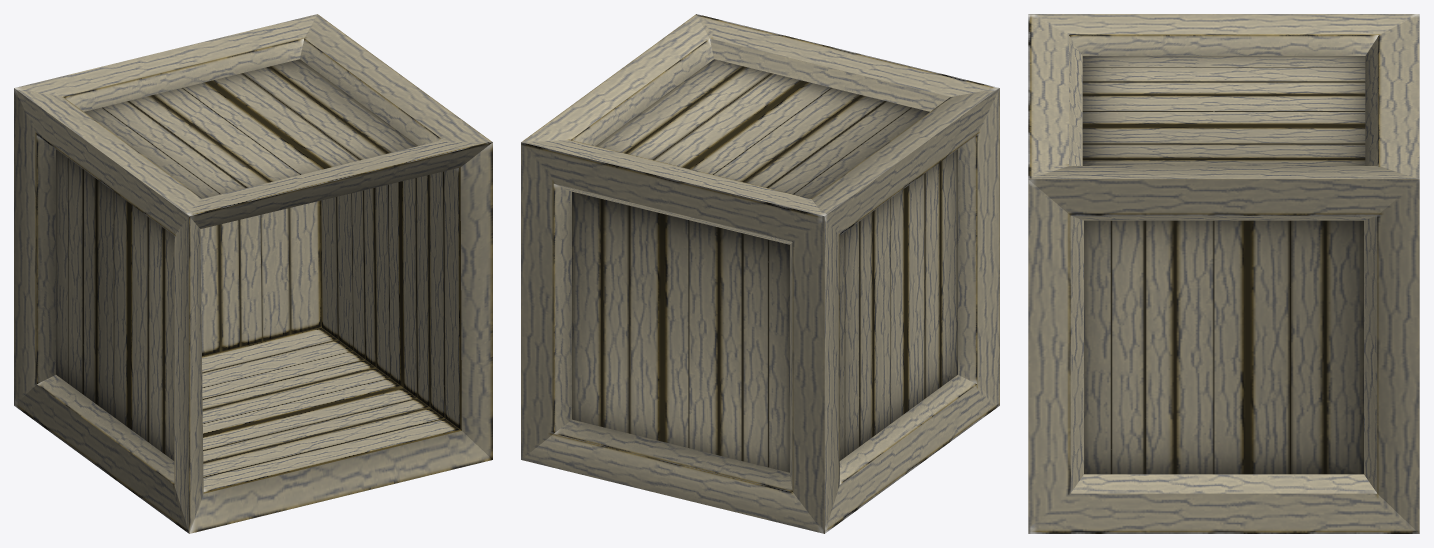
File: Crate_Open.fbx
3 views of the same model, side by side, from view 1: azimuth 30°, elevation 25°; view 2: azimuth 150°, elevation 25°; view 3: azimuth 270°, elevation 25° (orthographic). The views are drawn at different scales.
Parts seen in each view (by area): view 1: polySurface2; view 2: polySurface2; view 3: polySurface2.
Boxes of the visible parts, x1=… form: polySurface2: x1=14, y1=14, x2=492, y2=533; polySurface2: x1=521, y1=14, x2=999, y2=533; polySurface2: x1=1028, y1=14, x2=1419, y2=533.
Bounding box in the file's own units: 2 × 2 × 2.
